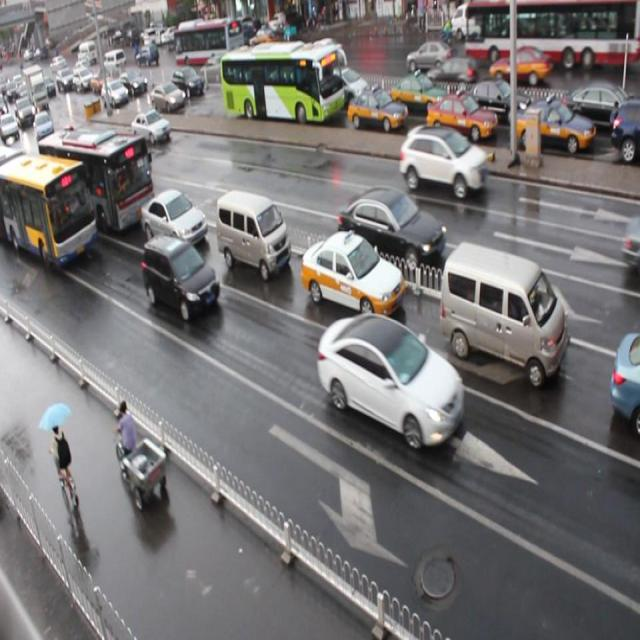car: (317, 312, 464, 450), (336, 186, 448, 276), (300, 229, 403, 321), (142, 232, 220, 322), (399, 124, 488, 200), (514, 101, 594, 160), (554, 84, 640, 135), (140, 188, 208, 252), (426, 91, 497, 145), (464, 79, 534, 127), (608, 330, 640, 433), (386, 70, 449, 116), (345, 88, 407, 134), (324, 63, 372, 106), (610, 100, 640, 161), (22, 160, 61, 204), (132, 110, 171, 146), (148, 82, 184, 114), (170, 67, 202, 98), (117, 70, 147, 98), (101, 80, 127, 108)
truck: (439, 240, 568, 389), (214, 187, 290, 282), (108, 132, 154, 180)
van: (0, 145, 99, 271), (38, 127, 153, 235), (216, 41, 339, 125)
